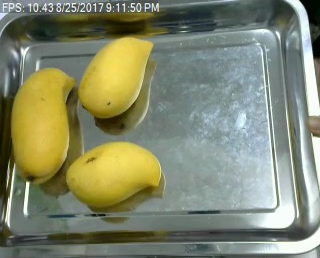Mango: (11, 66, 74, 187), (64, 138, 164, 210), (77, 37, 157, 121)
